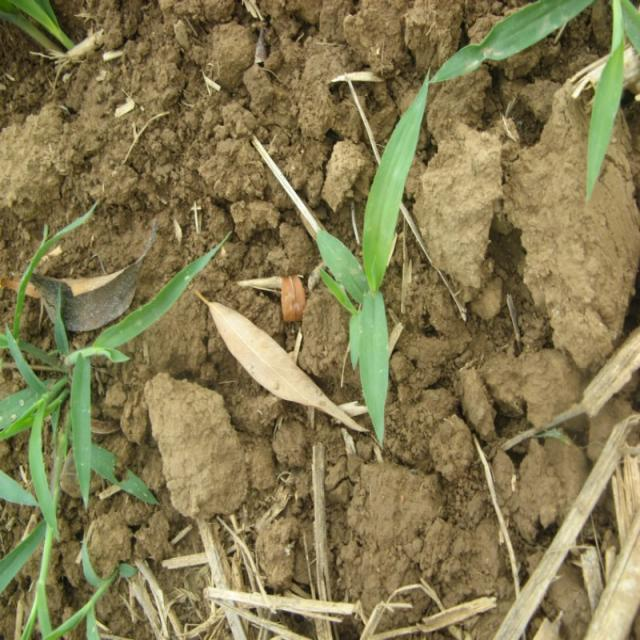bg: (0, 199, 231, 637), (314, 70, 430, 447)
